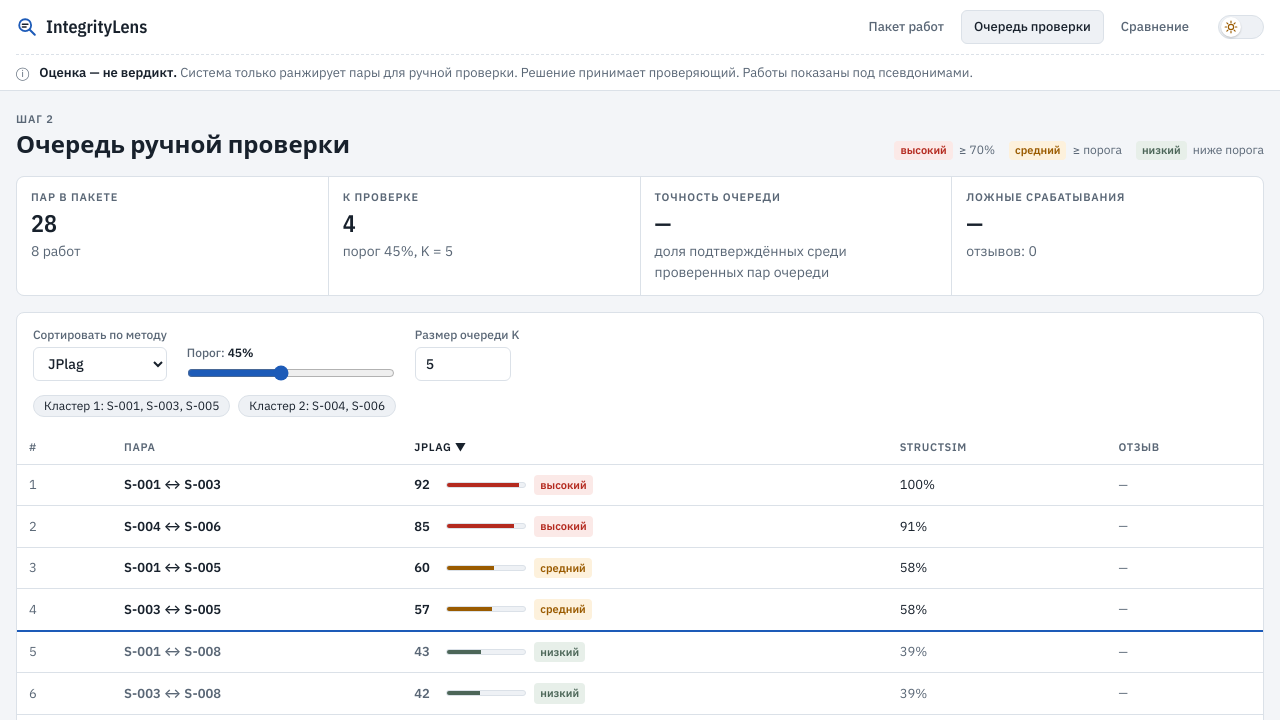
Test: сценарий проверяющего end-to-end (на моках api) › отзыв: черновик не теряется при переходе между парами
Click the row "1 S-001 ↔ S-003 92 высокий 100% —": (640,485) [17,464,1263,506]
(page scrolled)
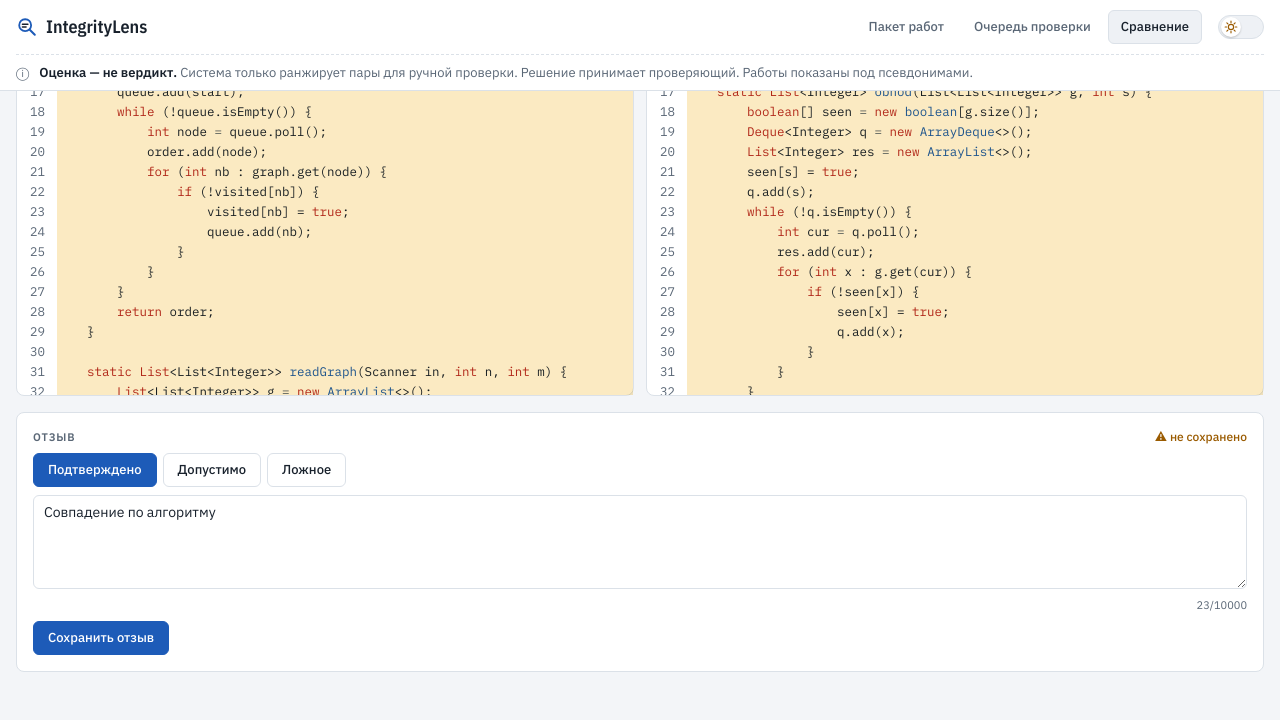
Replace the text in the text box named "Комментарий" with "набросок, не сохранён": (640,542) [33,494,1247,588]
(page scrolled)
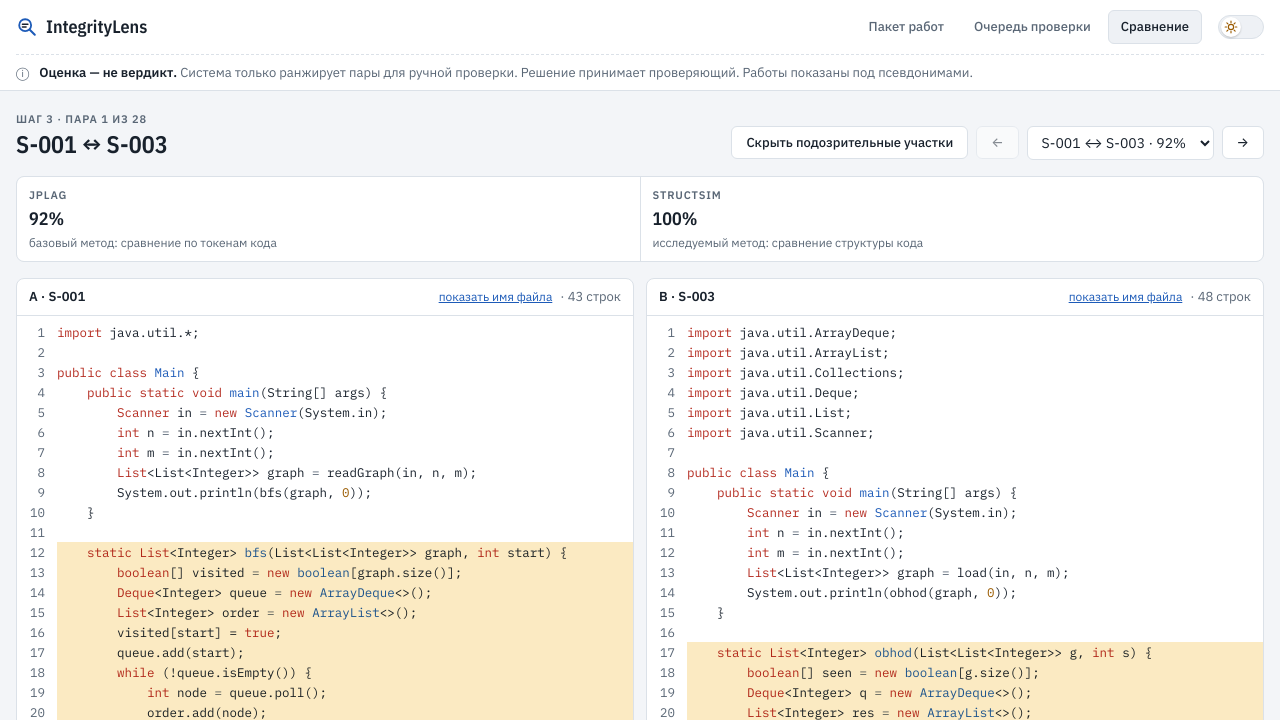
// Переключаемся на следующую пару и обратно.
Click the button named "Следующая пара": (1243,143) [1222,126,1264,159]
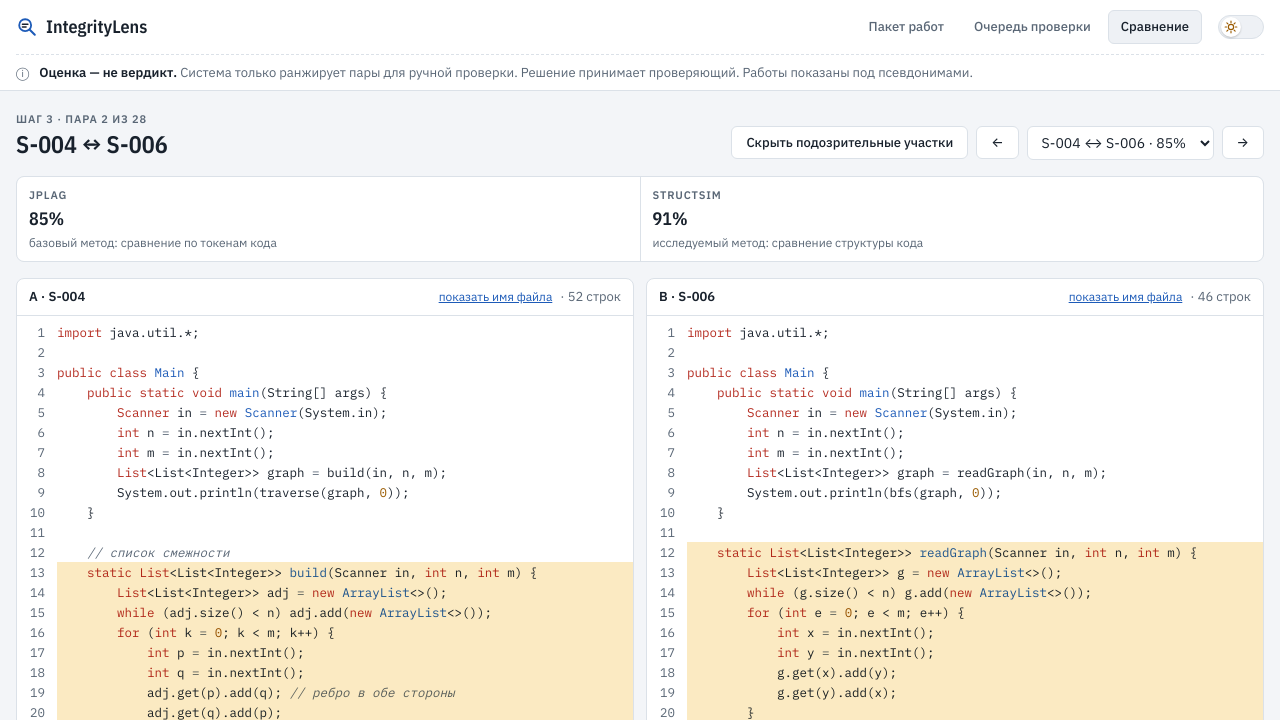
Click the button named "Предыдущая пара": (997,143) [976,126,1019,159]
(page scrolled)
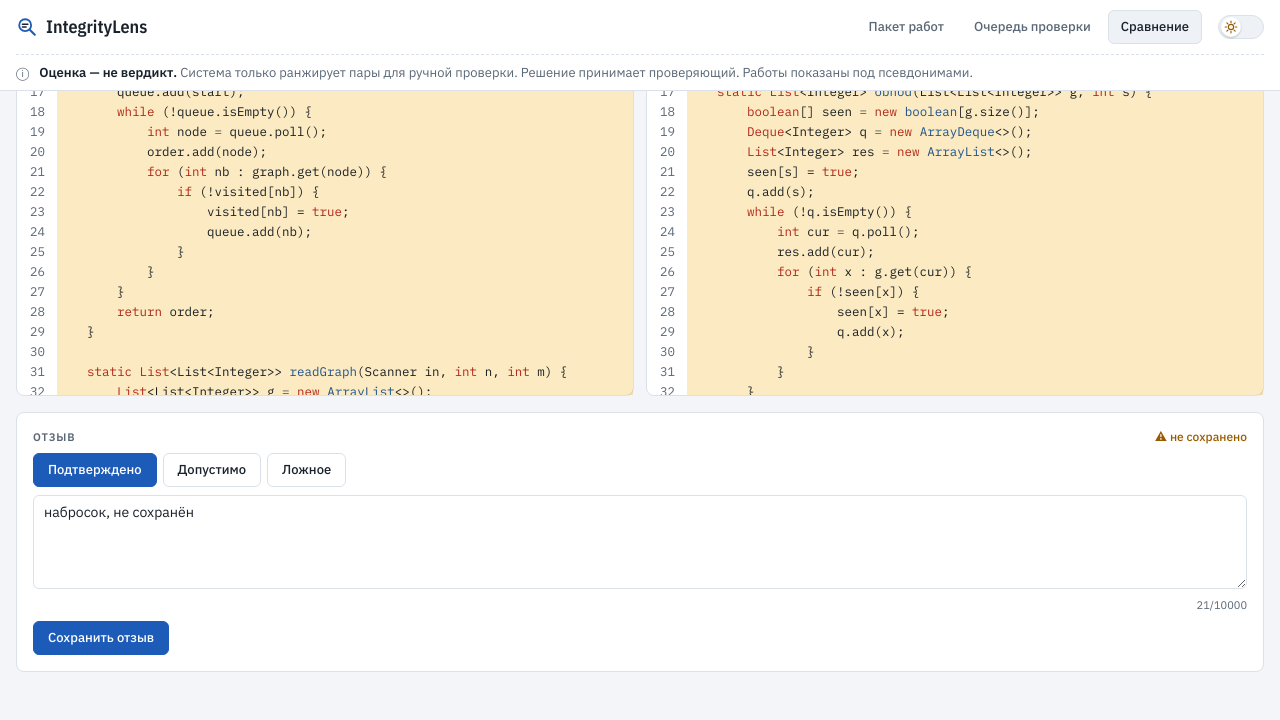
expect the text box named "Комментарий" holds "набросок, не сохранён": met, box [33,494,1247,588]
